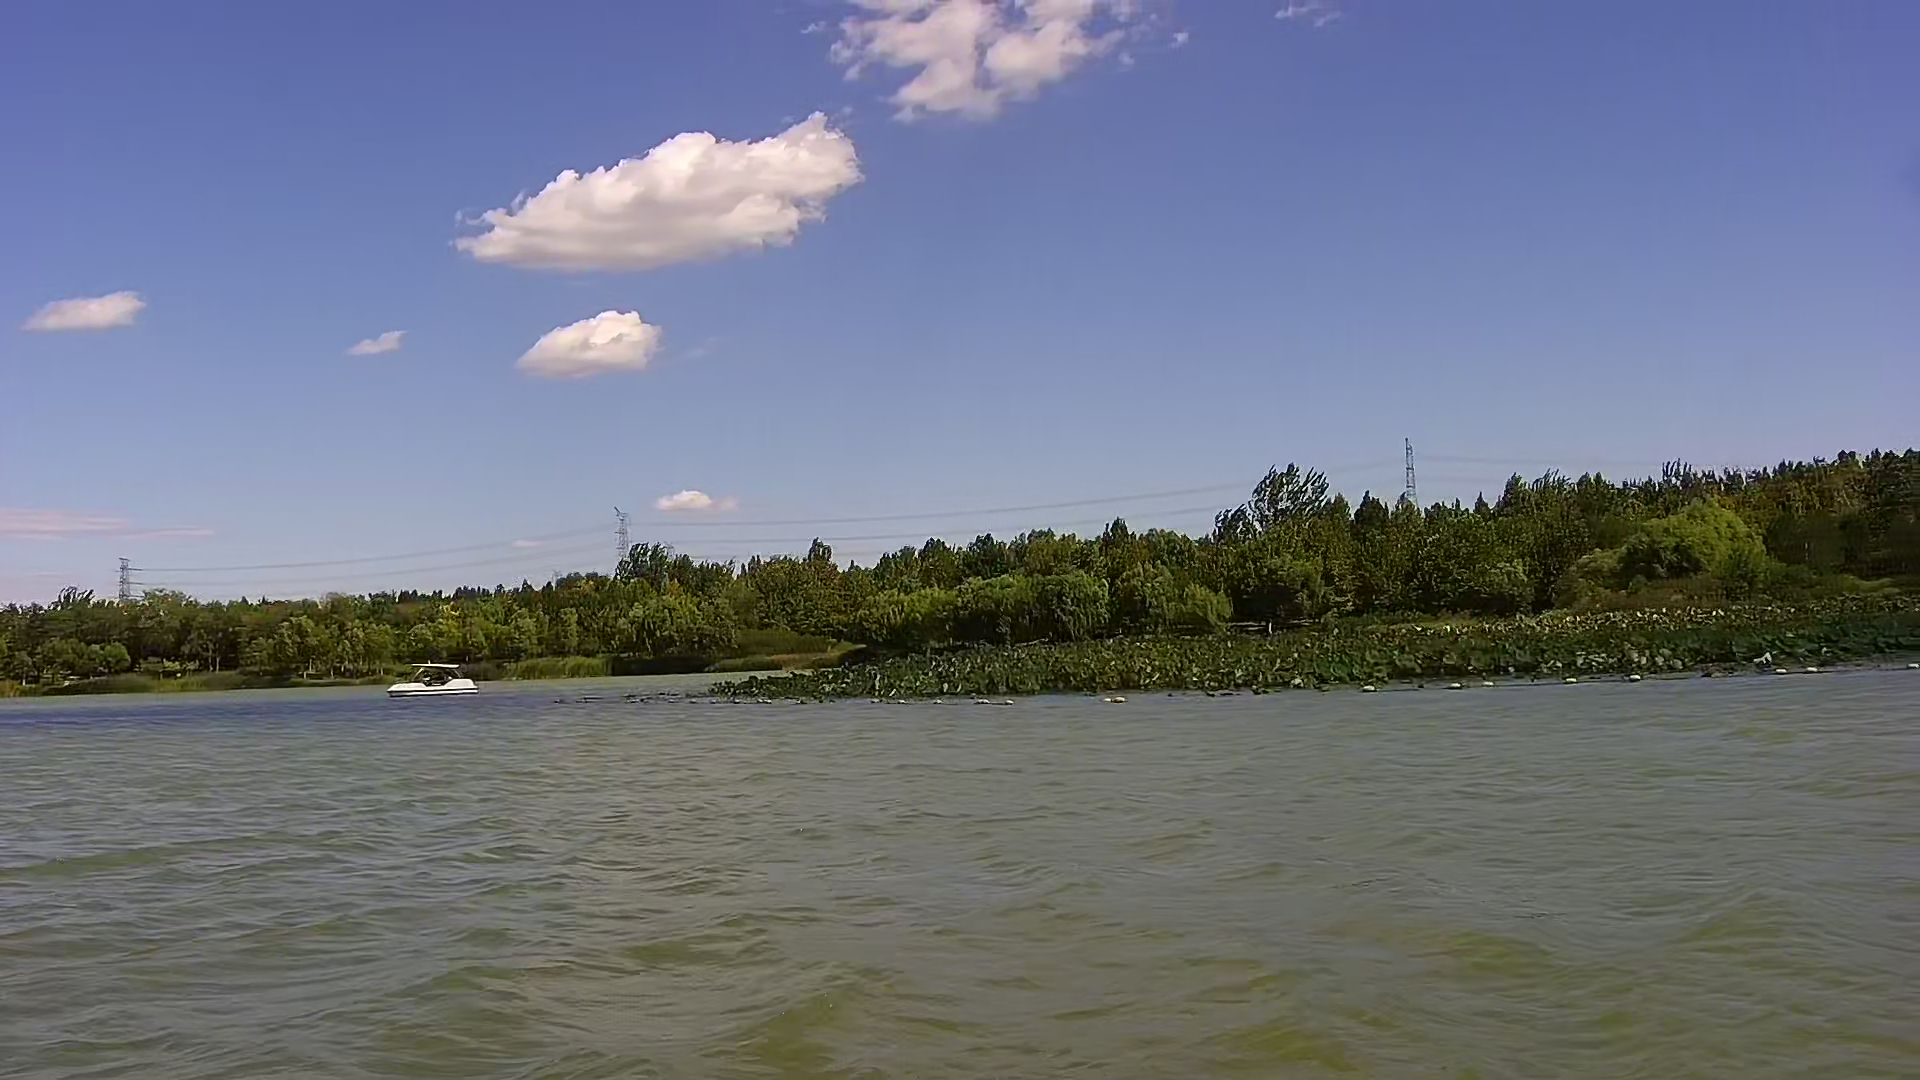boat: (386, 657, 488, 704)
